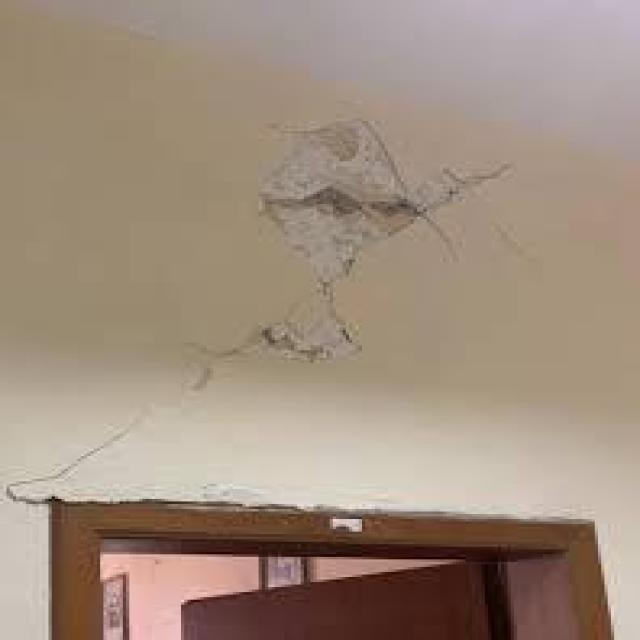damage: (187, 101, 550, 383), (3, 388, 208, 511)
